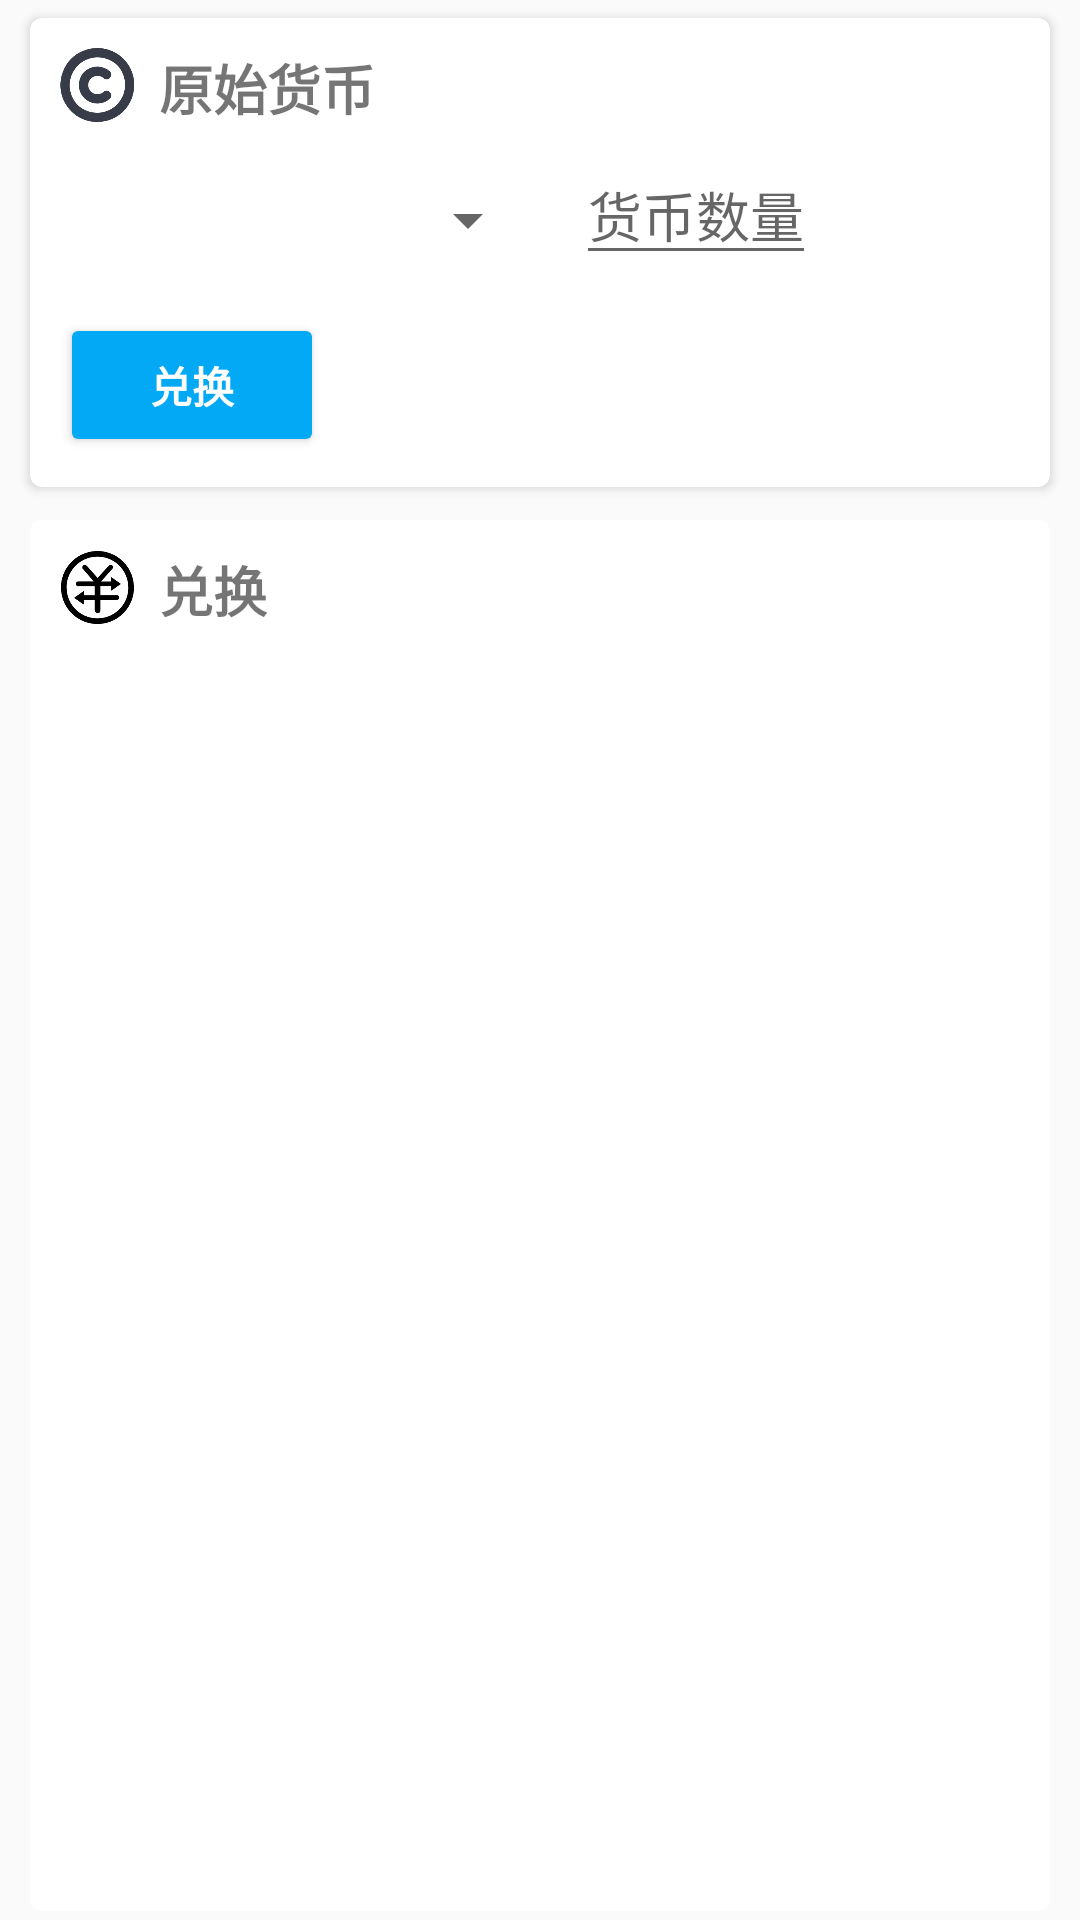

Where to tap for icons on this 1080px x 1920px app screen, as [x,y]:
huobi: [97,85]
